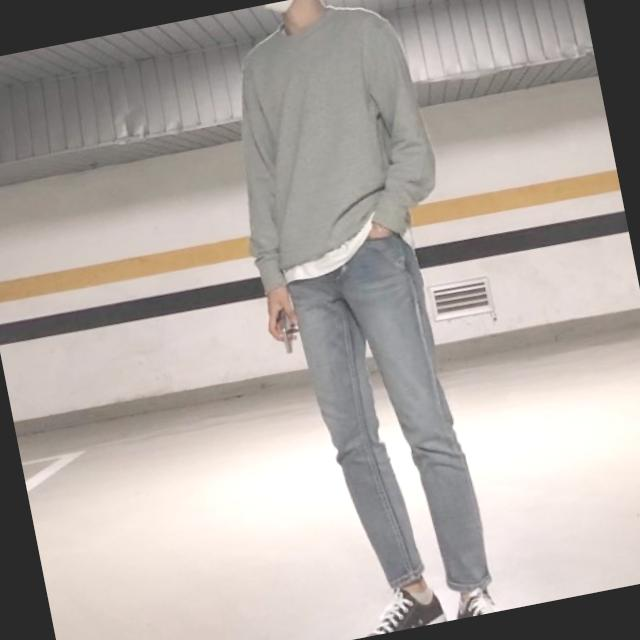denimpants: (279, 222, 493, 614)
mtm: (207, 0, 452, 294)
